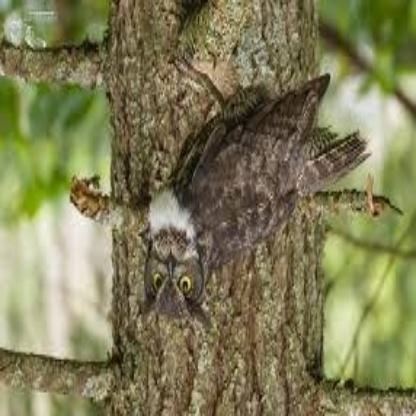Owl: (145, 106, 345, 314)
